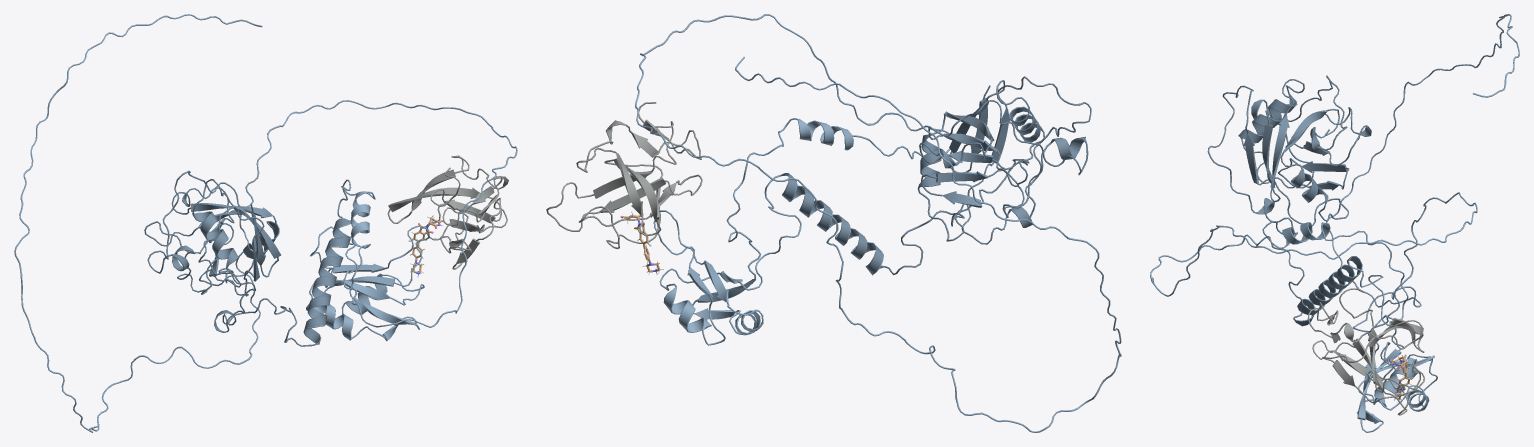
3 renders of one model, left to right at view 1: azimuth 30°, elevation 25°; view 2: azimuth 150°, elevation 25°; view 3: azimuth 270°, elevation 25°, orthographic. The views are drawn at different scales.
Parts seen in each view (by area): view 1: node-geom95, node-geom96; view 2: node-geom95, node-geom96; view 3: node-geom95, node-geom96.
Part boxes in pixels (x1,y1,x2,y2): node-geom95: [144, 155, 508, 346]; node-geom96: [14, 14, 517, 432]; node-geom95: [546, 76, 1091, 275]; node-geom96: [635, 14, 1121, 432]; node-geom95: [1207, 75, 1424, 415]; node-geom96: [1150, 14, 1519, 432].
Size of the model in its own units: 144 by 92.5 by 93.65.
